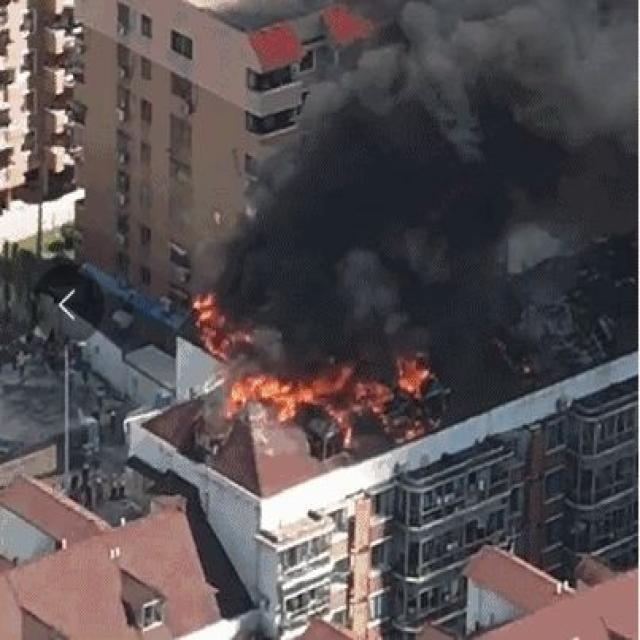Fire: (194, 294, 436, 450)
Smoke: (189, 2, 640, 387)
